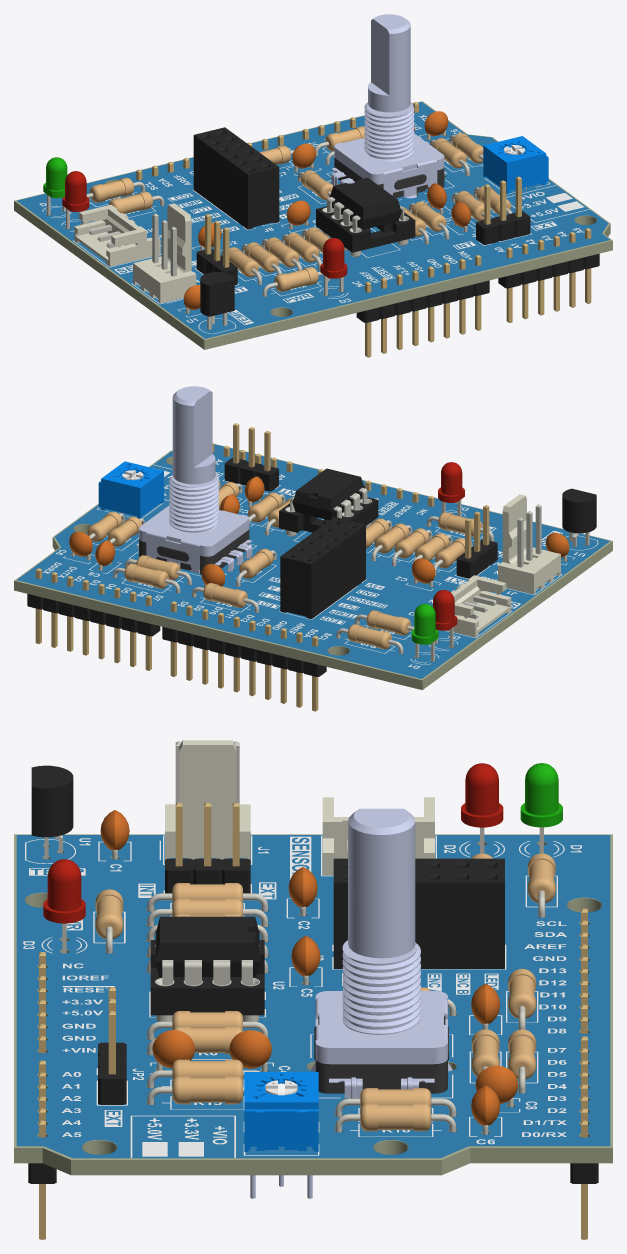
Rendered from analog_shield.glb.
3 renders of one model, top to bottom at view 1: azimuth 30°, elevation 25°; view 2: azimuth 150°, elevation 25°; view 3: azimuth 270°, elevation 25°, orthographic. The views are drawn at different scales.
Parts seen in each view (by area): view 1: =>[0:1:1:38], =>[0:1:1:36], =>[0:1:1:21], =>[0:1:1:7] (×13), =>[0:1:1:19], =>[0:1:1:34], =>[0:1:1:31], =>[0:1:1:23], =>[0:1:1:13] (×2), =>[0:1:1:25], =>[0:1:1:33], =>[0:1:1:11] (+6 smaller); view 2: =>[0:1:1:38], =>[0:1:1:36], =>[0:1:1:21], =>[0:1:1:7] (×15), =>[0:1:1:19], =>[0:1:1:29], =>[0:1:1:34], =>[0:1:1:31], =>[0:1:1:23], =>[0:1:1:13] (×2), =>[0:1:1:15], =>[0:1:1:11] (+6 smaller); view 3: =>[0:1:1:38], =>[0:1:1:36], =>[0:1:1:21], =>[0:1:1:7] (×13), =>[0:1:1:34], =>[0:1:1:19], =>[0:1:1:5] (×8), =>[0:1:1:23], =>[0:1:1:11], =>[0:1:1:15], =>[0:1:1:13] (×2), =>[0:1:1:3] (×2) (+7 smaller).
Boxes of the visible parts, x1,y1,x2,y2 form: =>[0:1:1:38]: (14,101,612,349); =>[0:1:1:36]: (17,102,609,338); =>[0:1:1:21]: (331,14,447,198); =>[0:1:1:7] (×13): (86,126,490,296); =>[0:1:1:19]: (193,127,279,229); =>[0:1:1:34]: (39,115,589,334); =>[0:1:1:31]: (356,255,489,357); =>[0:1:1:23]: (133,203,196,303); =>[0:1:1:13] (×2): (196,176,530,285); =>[0:1:1:25]: (74,204,160,266); =>[0:1:1:33]: (498,228,599,322); =>[0:1:1:11]: (327,177,404,232); =>[0:1:1:38]: (14,444,612,689); =>[0:1:1:36]: (16,444,609,678); =>[0:1:1:21]: (136,386,252,574); =>[0:1:1:7] (×15): (87,492,493,653); =>[0:1:1:19]: (280,517,365,619); =>[0:1:1:29]: (162,601,326,711); =>[0:1:1:34]: (42,459,598,668); =>[0:1:1:31]: (27,568,160,670); =>[0:1:1:23]: (498,494,560,594); =>[0:1:1:13] (×2): (224,423,497,578); =>[0:1:1:15]: (98,461,163,518); =>[0:1:1:11]: (290,468,367,520); =>[0:1:1:38]: (14,834,612,1175); =>[0:1:1:36]: (16,835,610,1158); =>[0:1:1:21]: (310,808,452,1098); =>[0:1:1:7] (×13): (95,853,555,1132); =>[0:1:1:34]: (23,835,581,1157); =>[0:1:1:19]: (333,858,504,968); =>[0:1:1:5] (×8): (100,810,517,1134); =>[0:1:1:23]: (165,740,250,859); =>[0:1:1:11]: (155,916,259,985); =>[0:1:1:15]: (244,1072,318,1198); =>[0:1:1:13] (×2): (98,803,250,1104); =>[0:1:1:3] (×2): (43,763,503,953).
Bounding box in the file's own units: 0.0686 × 0.0347 × 0.0533.
